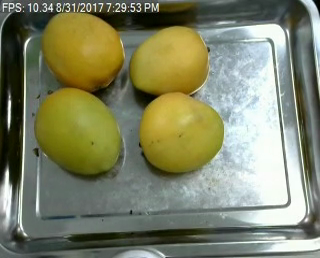Mango: (33, 88, 122, 175), (138, 93, 224, 174), (40, 10, 125, 90), (130, 26, 208, 94)
